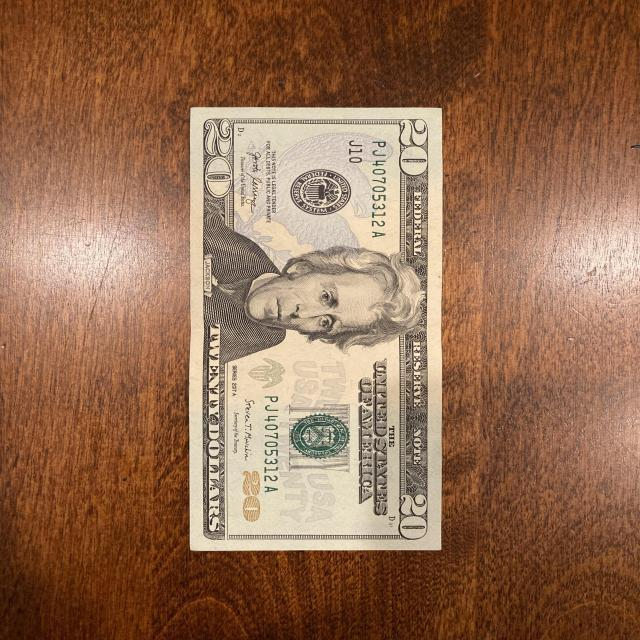twenty: (186, 104, 446, 552)
